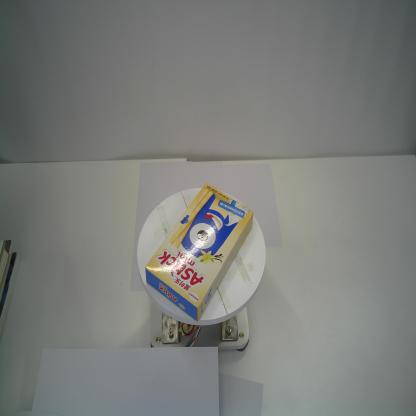Dessert: (144, 183, 254, 322)
